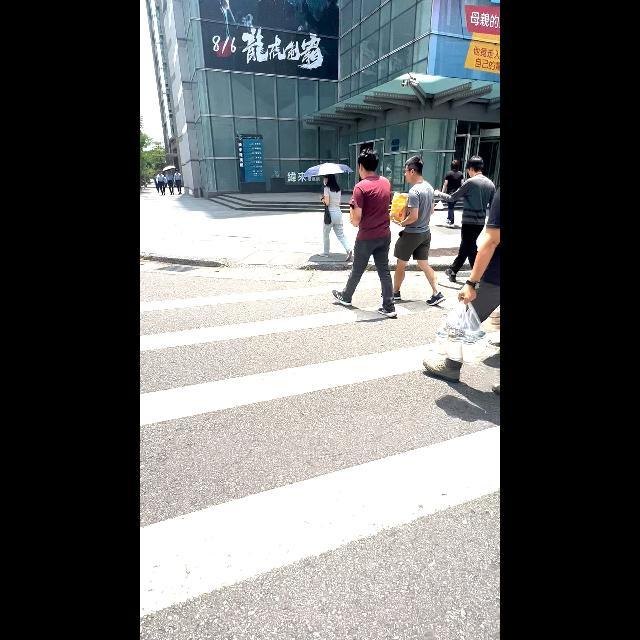sidewalk: (140, 260, 500, 637)
